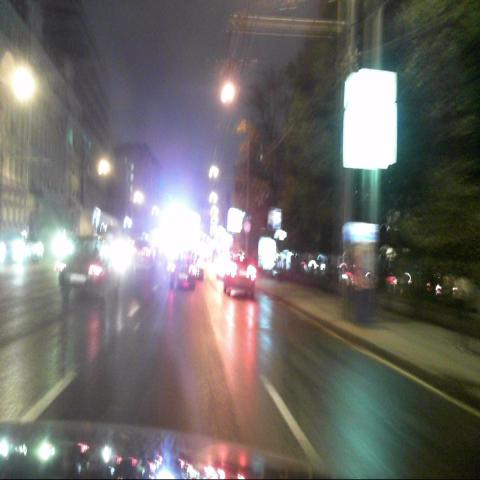3_27: (243, 220, 250, 233)
